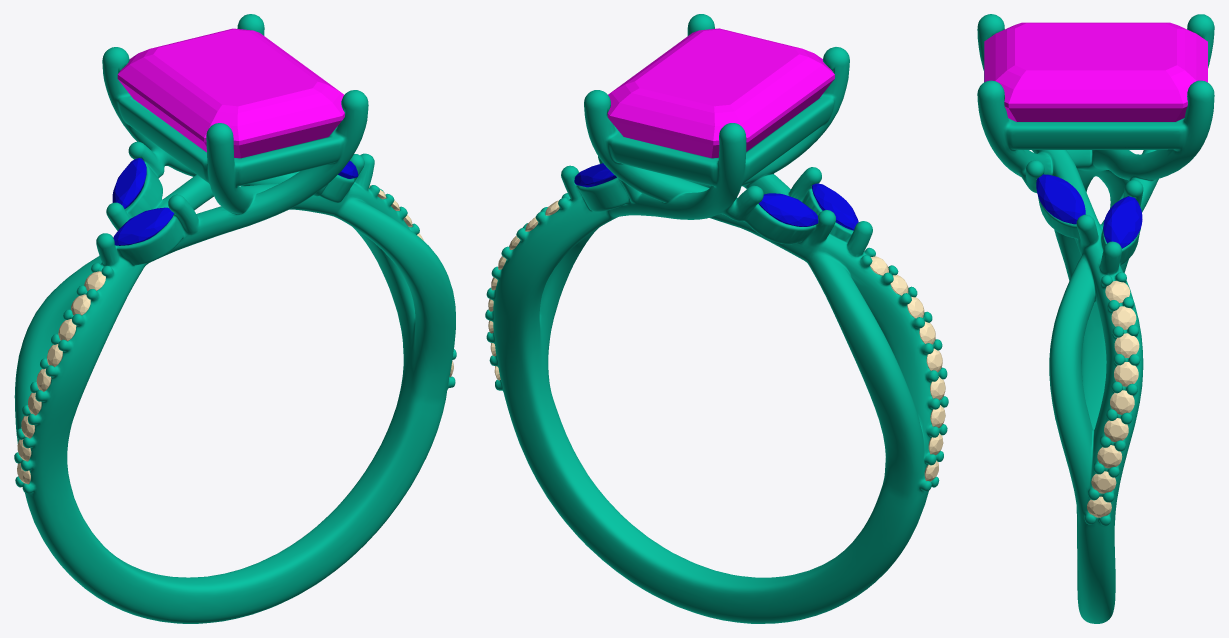
File: BE1D1349_EM_200ct_RENDER.glb
3 renders of one model, left to right at view 1: azimuth 30°, elevation 25°; view 2: azimuth 150°, elevation 25°; view 3: azimuth 270°, elevation 25°, orthographic.
Parts seen in each view (by area): view 1: Metal 01, CS_Diamond_Emerald, Diamond_Marquise_side.001, Diamond_Marquise_side; view 2: Metal 01, CS_Diamond_Emerald, Diamond_Marquise_side, Diamond_Marquise_side.001, Diamond_Marquise_side.003; view 3: Metal 01, CS_Diamond_Emerald, Diamond_Marquise_side.002, Diamond_Marquise_side.003, Diamond_Round_Gem_SH.012, Diamond_Round_Gem_SH.011, Diamond_Round_Gem_SH.013, Diamond_Round_Gem_SH.014, Diamond_Round_Gem_SH.010, Diamond_Round_Gem_SH.015, Diamond_Round_Gem_SH.016, Diamond_Round_Gem_SH.009 (+1 smaller).
Part boxes in pixels (x1,y1,x2,y2): Metal 01: (14,14,456,623); CS_Diamond_Emerald: (117,28,344,158); Diamond_Marquise_side.001: (113,207,174,245); Diamond_Marquise_side: (112,158,146,208); Metal 01: (485,14,948,623); CS_Diamond_Emerald: (607,28,834,158); Diamond_Marquise_side: (758,193,818,226); Diamond_Marquise_side.001: (812,183,858,230); Diamond_Marquise_side.003: (574,163,616,187); Metal 01: (977,14,1214,623); CS_Diamond_Emerald: (984,22,1207,121); Diamond_Marquise_side.002: (1036,174,1085,224); Diamond_Marquise_side.003: (1103,196,1142,248); Diamond_Round_Gem_SH.012: (1114,362,1138,386); Diamond_Round_Gem_SH.011: (1114,333,1139,357); Diamond_Round_Gem_SH.013: (1110,390,1134,414); Diamond_Round_Gem_SH.014: (1104,418,1128,442); Diamond_Round_Gem_SH.010: (1111,306,1136,329); Diamond_Round_Gem_SH.015: (1097,445,1122,468); Diamond_Round_Gem_SH.016: (1091,471,1116,493); Diamond_Round_Gem_SH.009: (1105,280,1130,303).
Bounding box in the file's own units: 20.68 × 24.59 × 9.54.
